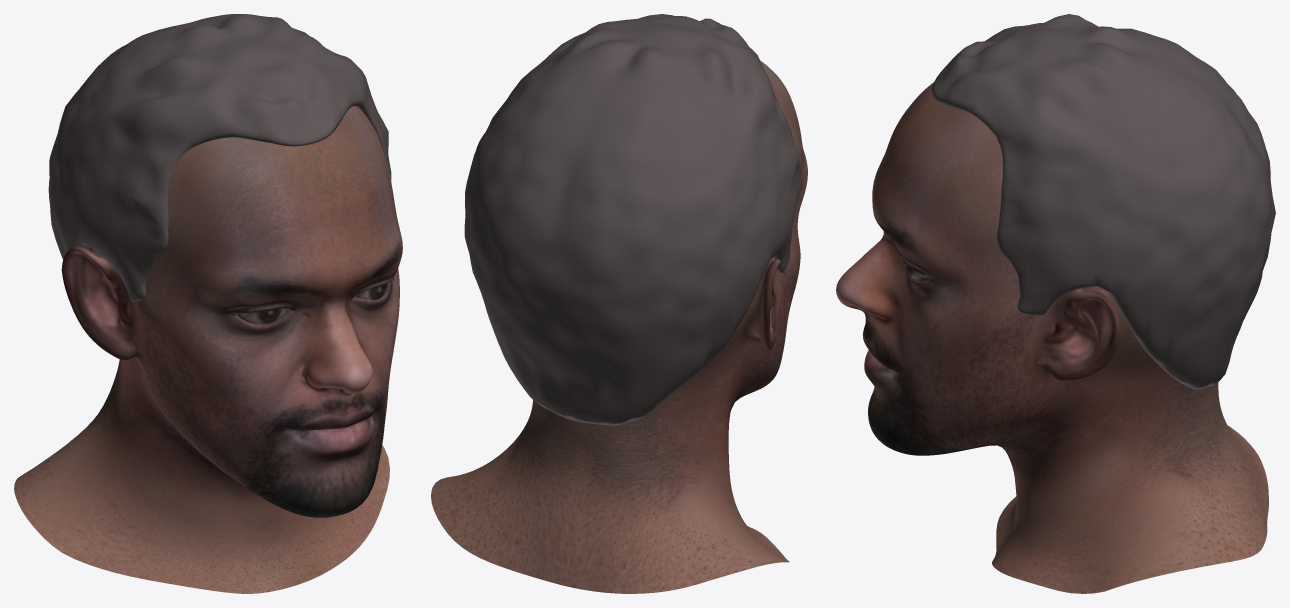
The model's file is nahomeHead.glb.
3 views of the same model, side by side, from view 1: azimuth 30°, elevation 25°; view 2: azimuth 150°, elevation 25°; view 3: azimuth 270°, elevation 25° (orthographic). The views are drawn at different scales.
Parts seen in each view (by area): view 1: Head, hair; view 2: hair, Head; view 3: Head, hair.
Boxes of the visible parts, x1=… form: Head: x1=14, y1=106, x2=402, y2=593; hair: x1=48, y1=14, x2=391, y2=301; hair: x1=464, y1=14, x2=801, y2=425; Head: x1=431, y1=60, x2=807, y2=593; Head: x1=836, y1=82, x2=1268, y2=593; hair: x1=932, y1=14, x2=1275, y2=389.
Size of the model in its own units: 1.93 by 2.81 by 2.18.
Materials: 2 (1 with a texture image).
